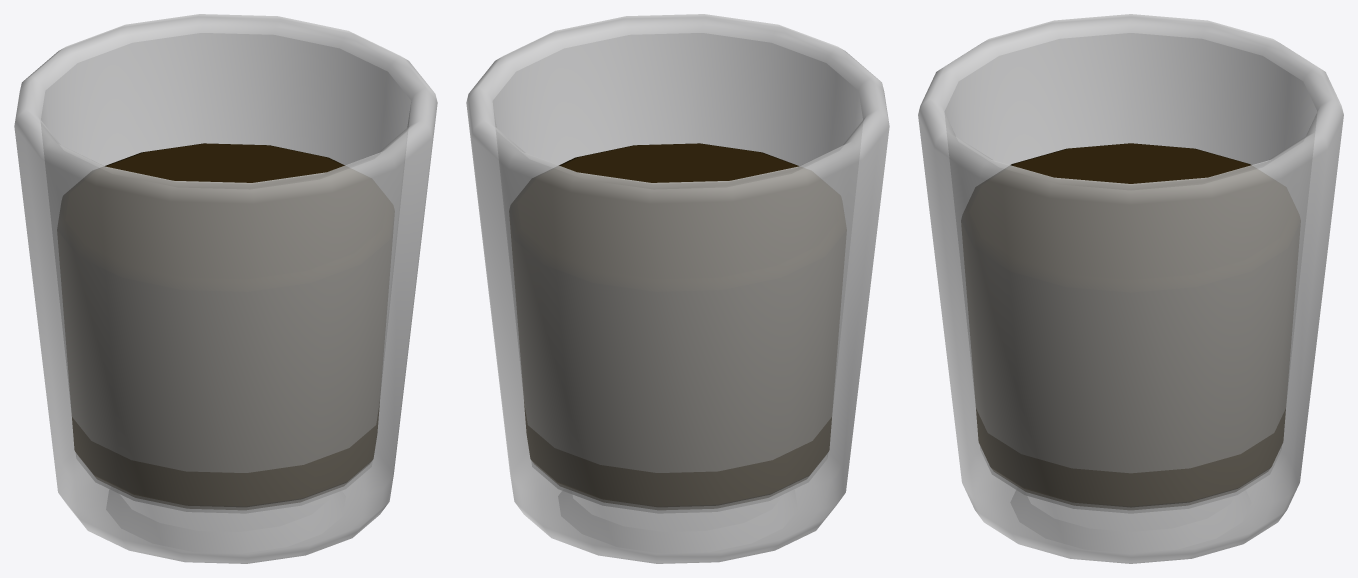
Rendered from GlassNormal.fbx.
3 renders of one model, left to right at view 1: azimuth 30°, elevation 25°; view 2: azimuth 150°, elevation 25°; view 3: azimuth 270°, elevation 25°, orthographic.
Visible parts, largest first — view 1: VasoNormal, Liquido_VasoNormal; view 2: VasoNormal, Liquido_VasoNormal; view 3: VasoNormal, Liquido_VasoNormal.
Boxes of the visible parts, box(x1,y1,x2,y2) form: VasoNormal: box(14, 14, 437, 563); Liquido_VasoNormal: box(57, 143, 394, 509); VasoNormal: box(466, 14, 889, 563); Liquido_VasoNormal: box(509, 143, 846, 509); VasoNormal: box(918, 14, 1343, 563); Liquido_VasoNormal: box(961, 143, 1300, 509).
Bounding box in the file's own units: 8.95 × 9.35 × 8.95.
